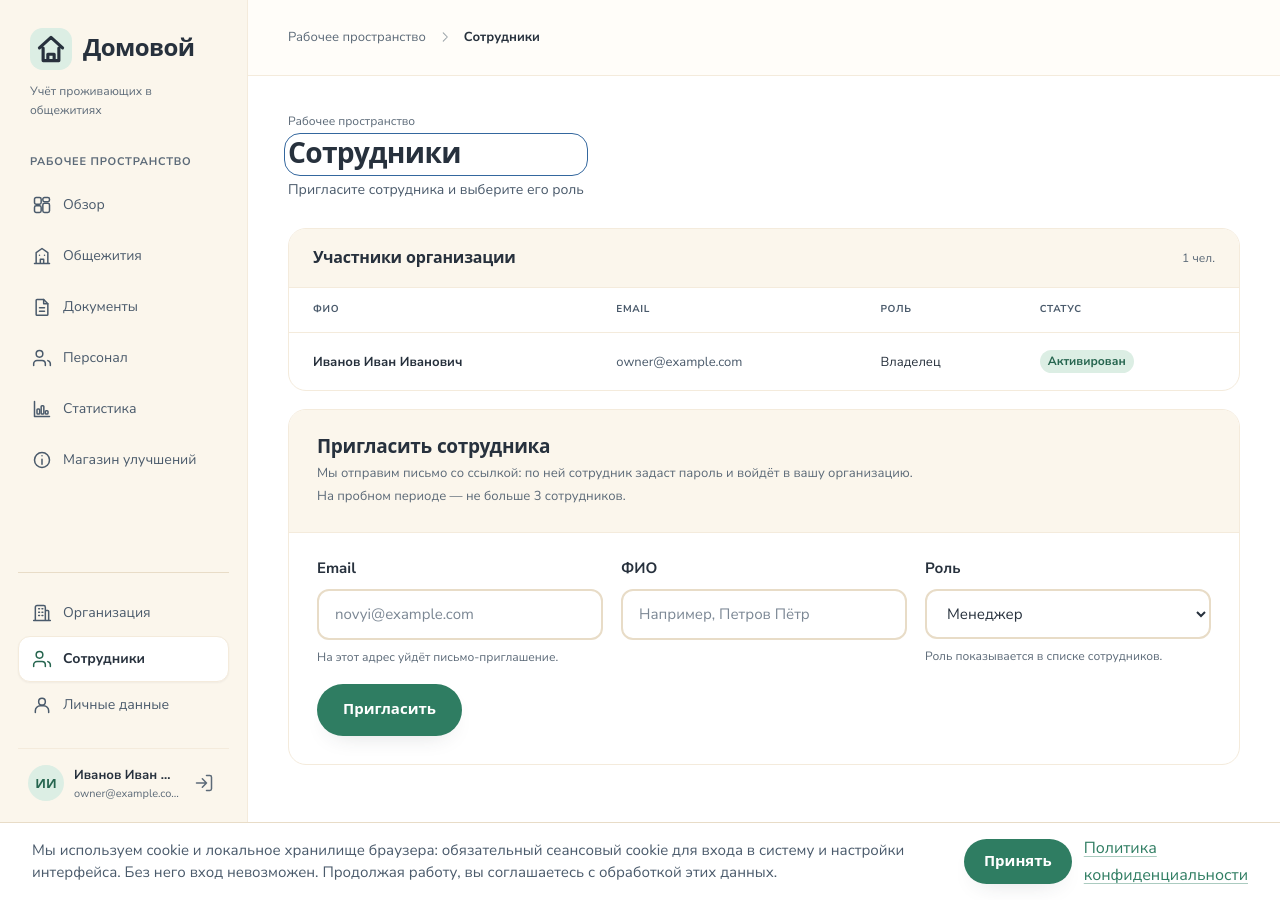
Test case: экран сотрудников › показывает текст 409 от сервера и возвращает фокус в поле email
Type "zanyat@example.com" into the field with test id "invite-email" at (460, 614), box [317,589,603,640]
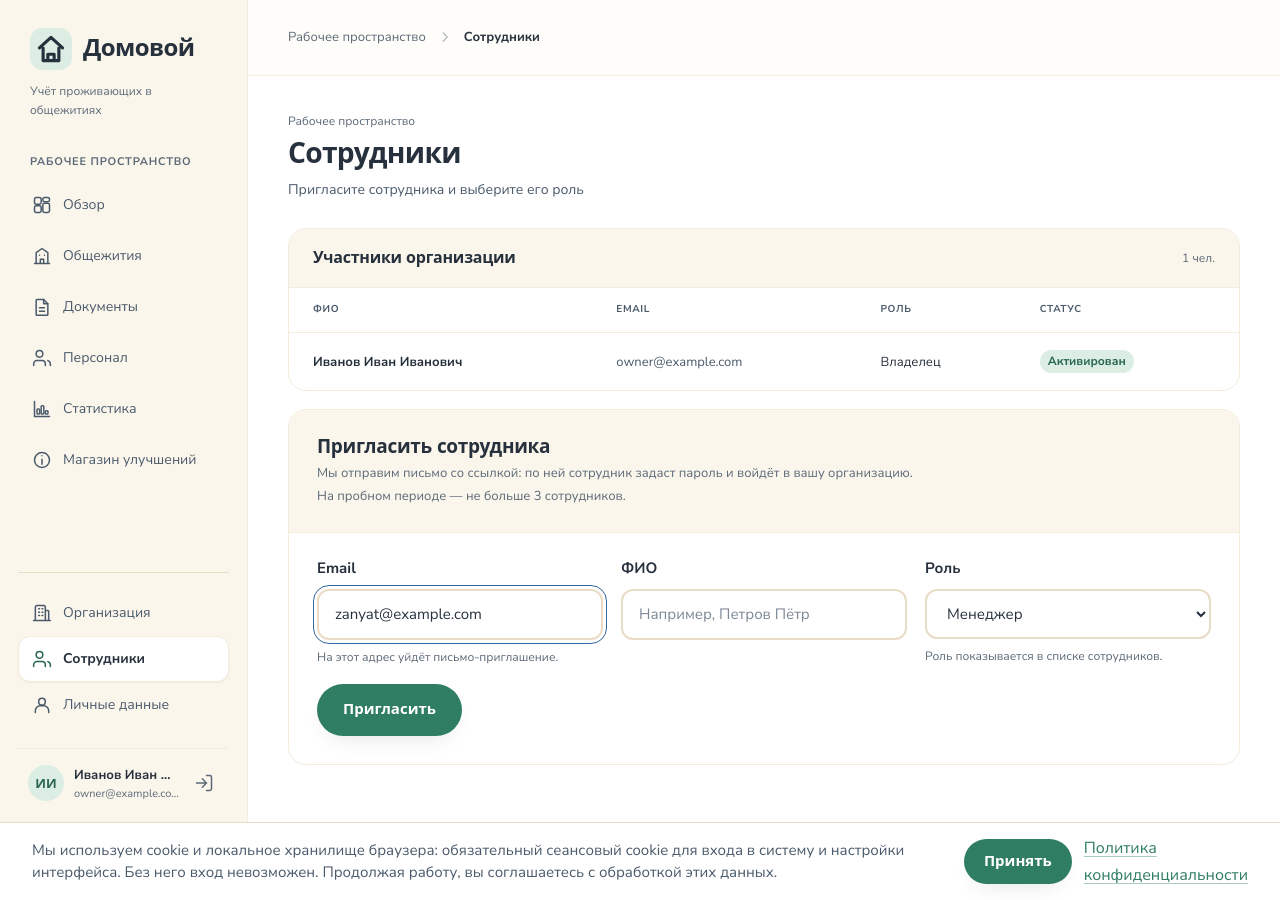
Type "Занятый Адрес" into the field with test id "invite-full-name" at (764, 614), box [621,589,907,640]
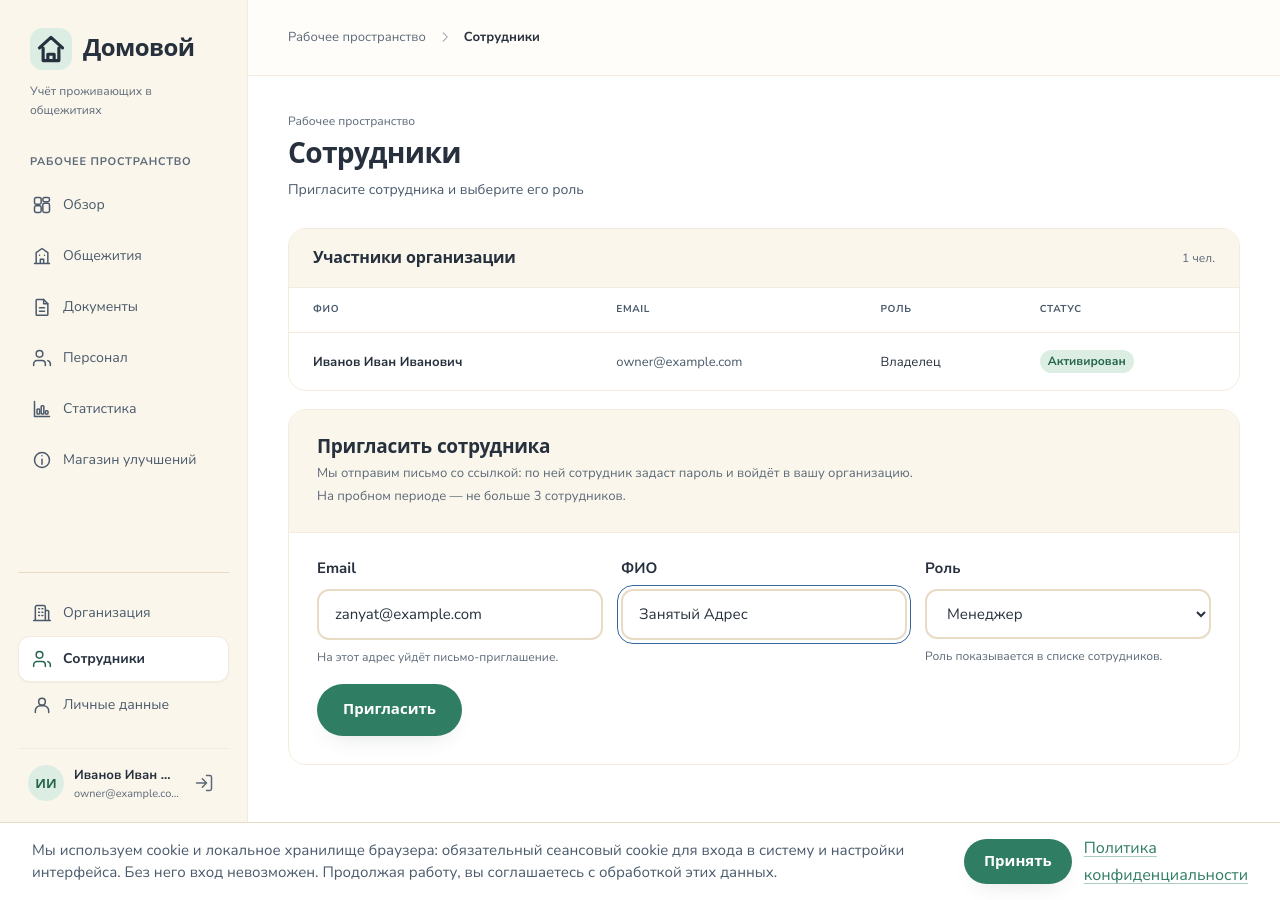
Click the button with test id "invite-submit" at (390, 710), box [317,684,462,736]
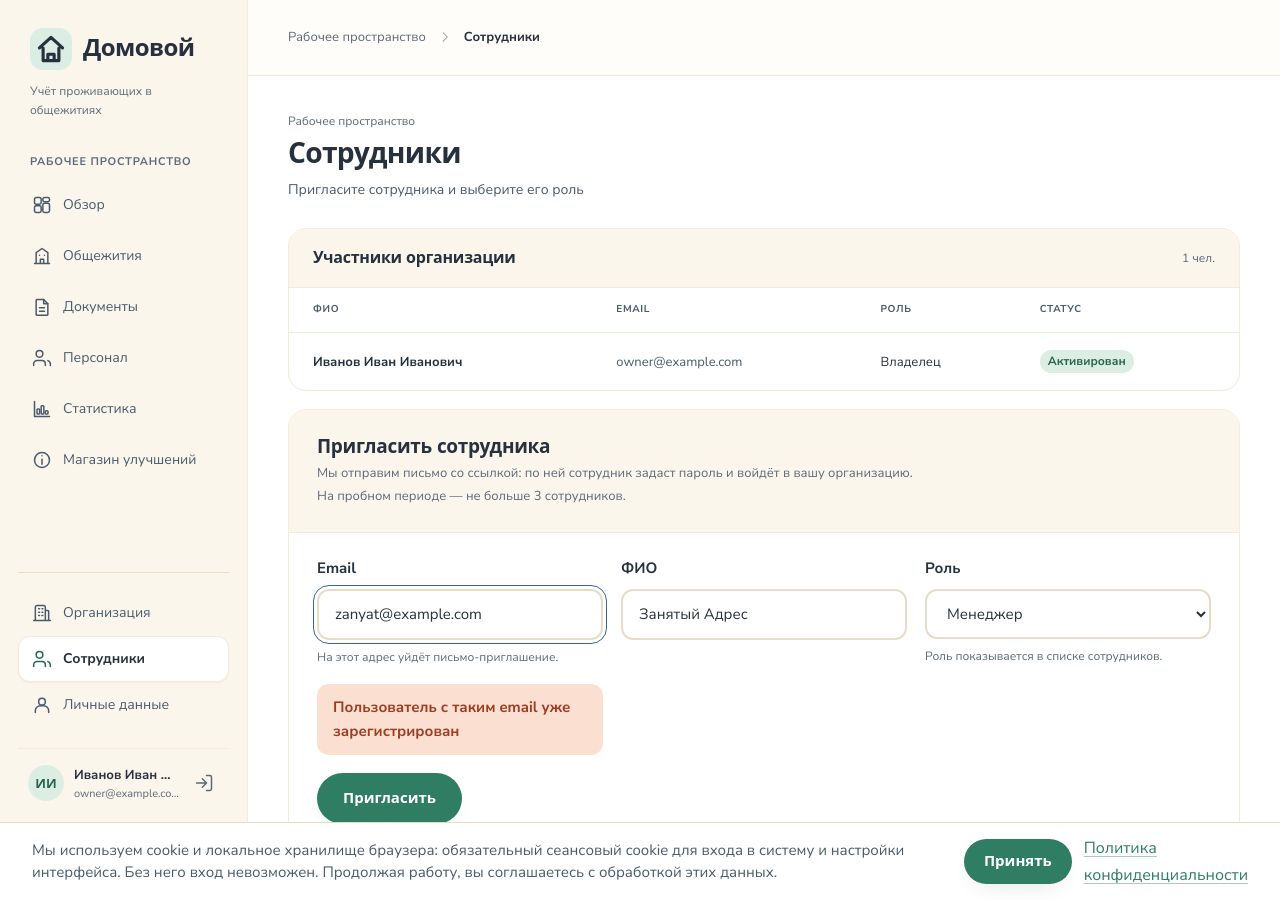
Now the message with test id "invite-error" reads "Пользователь с таким email уже зарегистрирован", box [333,698,570,741]
